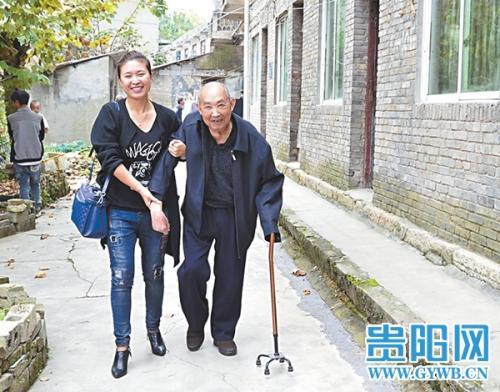up: (170, 79, 284, 357), (88, 50, 171, 381), (3, 86, 57, 210)
